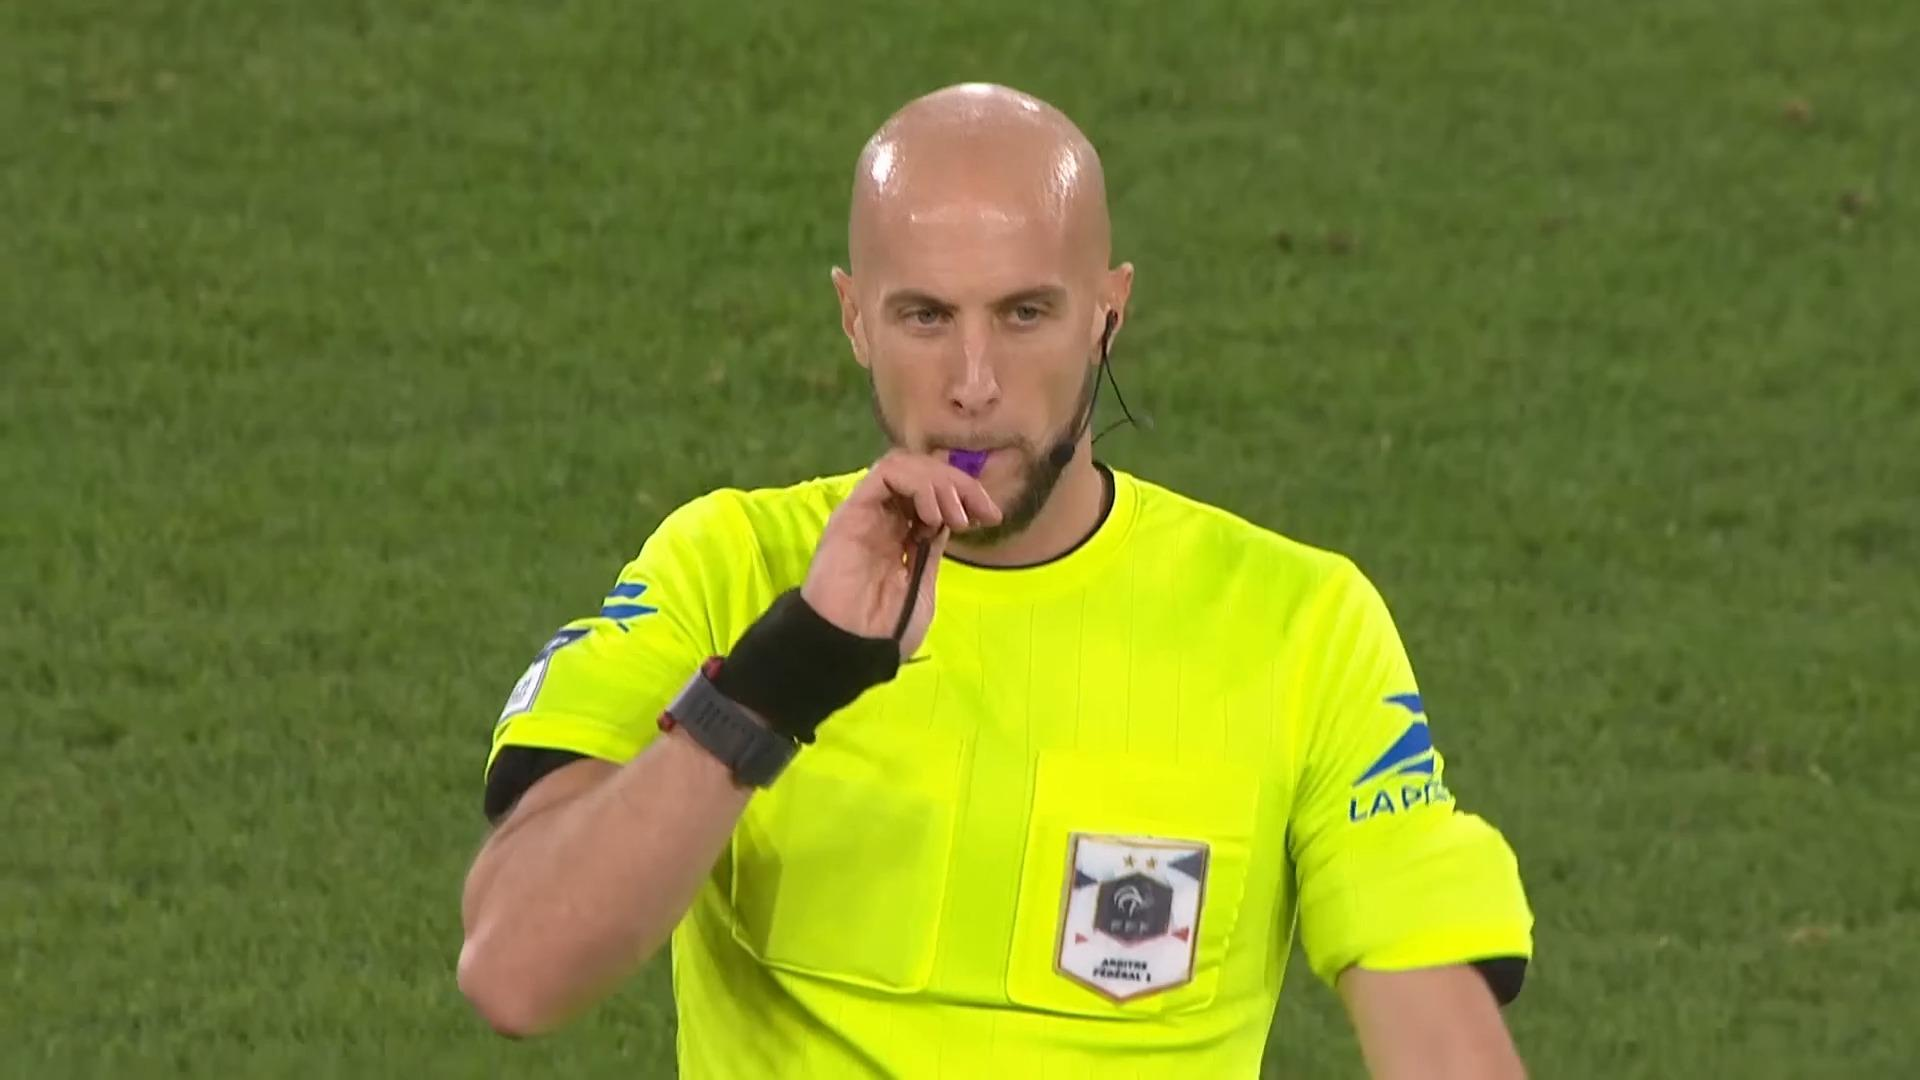Referee: (460, 60, 1543, 1080)
